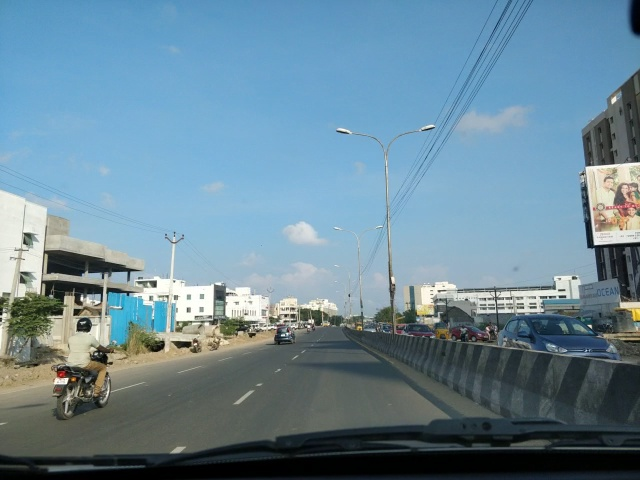car: (500, 309, 620, 379), (272, 320, 299, 348), (449, 325, 490, 343), (401, 322, 438, 341)
motorbike: (48, 308, 114, 420), (189, 336, 205, 354), (210, 336, 222, 350), (460, 328, 472, 341), (304, 321, 313, 334)
